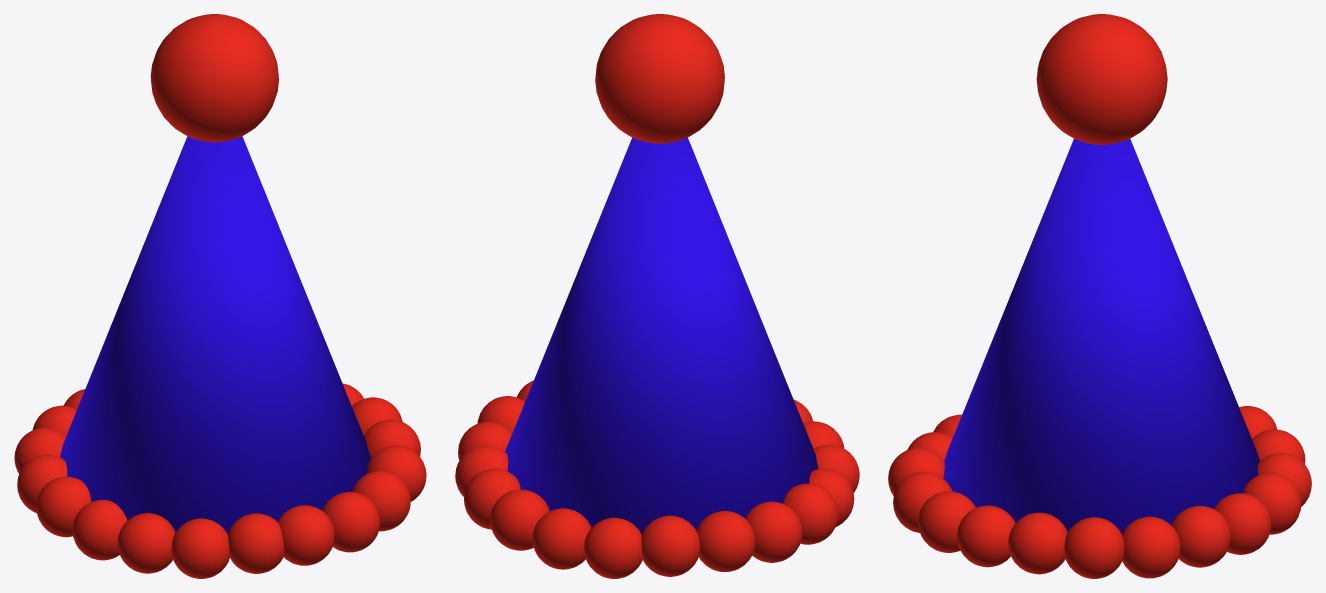
Rendered from gorro_clown.glb.
3 views of the same model, side by side, from view 1: azimuth 30°, elevation 25°; view 2: azimuth 150°, elevation 25°; view 3: azimuth 270°, elevation 25° (orthographic).
Parts seen in each view (by area): view 1: Cone, Sphere, Sphere.017, Sphere.018, Sphere.019, Sphere.001, Sphere.002, Sphere.020, Sphere.011, Sphere.004, Sphere.003, Sphere.012 (+4 smaller); view 2: Cone, Sphere, Sphere.009, Sphere.014, Sphere.010, Sphere.013, Sphere.012, Sphere.015, Sphere.011, Sphere.016, Sphere.006, Sphere.020 (+4 smaller); view 3: Cone, Sphere, Sphere.007, Sphere.008, Sphere.005, Sphere.003, Sphere.006, Sphere.016, Sphere.004, Sphere.015, Sphere.002, Sphere.001 (+4 smaller).
Part boxes in pixels (left/top/right/bottom): Cone: left=60, top=136, right=370, bottom=533; Sphere: left=150, top=14, right=278, bottom=142; Sphere.017: left=171, top=518, right=229, bottom=578; Sphere.018: left=228, top=513, right=284, bottom=573; Sphere.019: left=117, top=513, right=175, bottom=573; Sphere.001: left=278, top=505, right=334, bottom=565; Sphere.002: left=322, top=492, right=380, bottom=552; Sphere.020: left=72, top=500, right=127, bottom=560; Sphere.011: left=36, top=476, right=91, bottom=537; Sphere.004: left=352, top=470, right=410, bottom=531; Sphere.003: left=367, top=445, right=426, bottom=501; Sphere.012: left=17, top=454, right=67, bottom=512; Cone: left=505, top=137, right=818, bottom=534; Sphere: left=595, top=14, right=724, bottom=143; Sphere.009: left=641, top=515, right=699, bottom=576; Sphere.014: left=584, top=517, right=642, bottom=578; Sphere.010: left=696, top=511, right=755, bottom=571; Sphere.013: left=532, top=508, right=591, bottom=569; Sphere.012: left=745, top=501, right=802, bottom=562; Sphere.015: left=490, top=489, right=549, bottom=550; Sphere.011: left=783, top=483, right=838, bottom=544; Sphere.016: left=464, top=468, right=520, bottom=529; Sphere.006: left=455, top=445, right=508, bottom=496; Sphere.020: left=809, top=468, right=854, bottom=526; Cone: left=943, top=138, right=1259, bottom=533; Sphere: left=1036, top=14, right=1167, bottom=144; Sphere.007: left=1064, top=517, right=1124, bottom=578; Sphere.008: left=1008, top=512, right=1067, bottom=574; Sphere.005: left=1122, top=516, right=1180, bottom=578; Sphere.003: left=957, top=505, right=1015, bottom=567; Sphere.006: left=1171, top=506, right=1230, bottom=567; Sphere.016: left=1214, top=493, right=1271, bottom=554; Sphere.004: left=918, top=491, right=975, bottom=552; Sphere.015: left=1243, top=473, right=1301, bottom=534; Sphere.002: left=893, top=471, right=952, bottom=532; Sphere.001: left=888, top=448, right=944, bottom=495.
Bounding box in the file's own units: 2.68 × 3.51 × 2.72.
